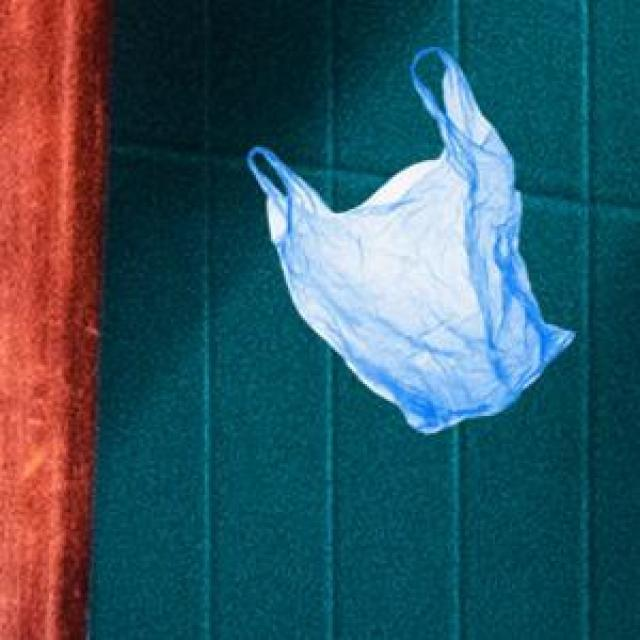waste: (248, 48, 574, 433)
